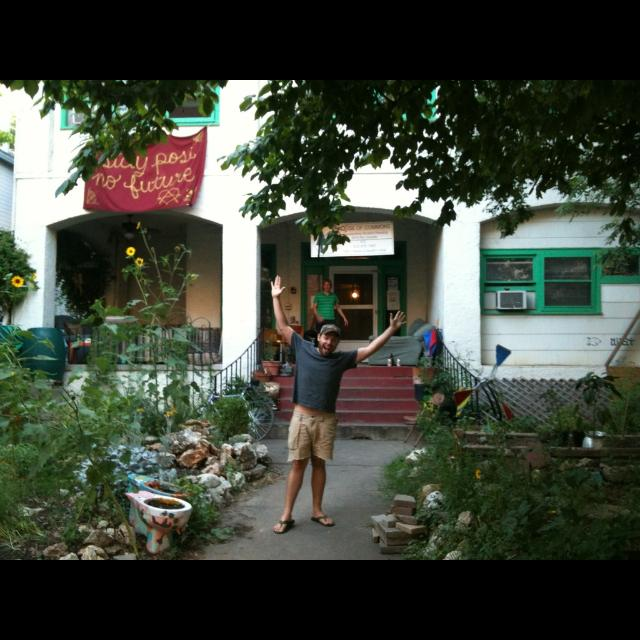Flower: (10, 274, 24, 288), (134, 256, 144, 268), (420, 398, 428, 409), (134, 222, 142, 232), (472, 469, 480, 478), (126, 246, 134, 254), (31, 274, 37, 280)
